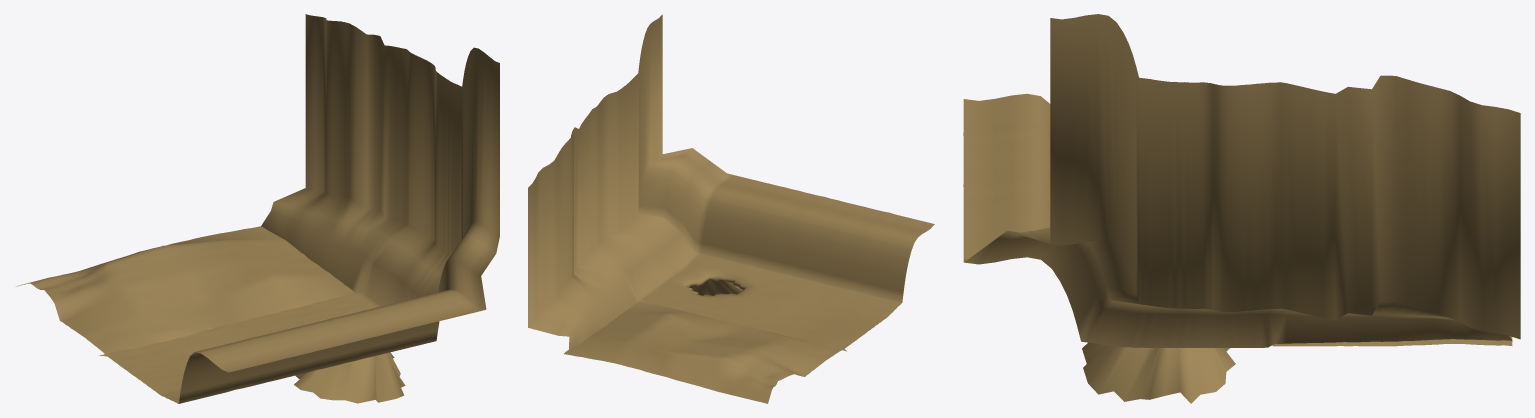
The model's file is TERRENO3.fbx.
3 views of the same model, side by side, from view 1: azimuth 30°, elevation 25°; view 2: azimuth 150°, elevation 25°; view 3: azimuth 270°, elevation 25° (orthographic). The views are drawn at different scales.
Parts seen in each view (by area): view 1: Areia, Areia.002; view 2: Areia, Areia.002; view 3: Areia, Areia.002.
Boxes of the visible parts, x1=… form: Areia: x1=99, y1=14, x2=499, y2=403; Areia.002: x1=16, y1=226, x2=355, y2=353; Areia: x1=528, y1=14, x2=934, y2=354; Areia.002: x1=564, y1=301, x2=841, y2=403; Areia: x1=963, y1=14, x2=1520, y2=403; Areia.002: x1=1272, y1=336, x2=1512, y2=346.
Size of the model in its own units: 25907 by 25702 by 30329.
